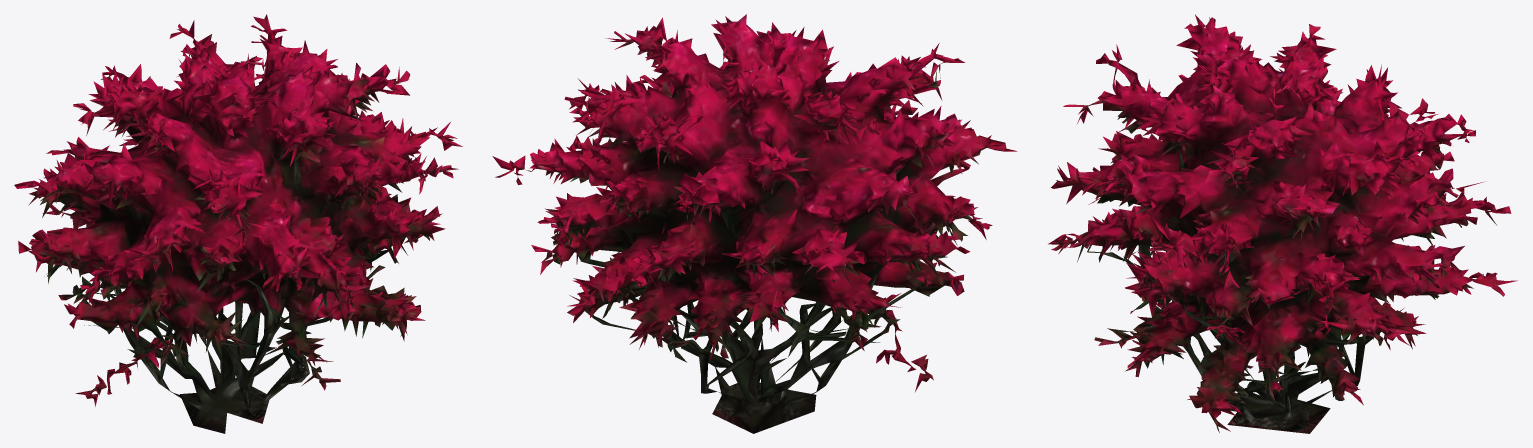
The model's file is CCG_Bougainvillea_web.glb.
3 renders of one model, left to right at view 1: azimuth 30°, elevation 25°; view 2: azimuth 150°, elevation 25°; view 3: azimuth 270°, elevation 25°, orthographic. The views are drawn at different scales.
Visible parts, largest first — view 1: tripo_node_40f63642-ee06-41f8-951d-61a3b2fb097f; view 2: tripo_node_40f63642-ee06-41f8-951d-61a3b2fb097f; view 3: tripo_node_40f63642-ee06-41f8-951d-61a3b2fb097f.
Part boxes in pixels (box(x1,y1,x2,y2)): tripo_node_40f63642-ee06-41f8-951d-61a3b2fb097f: box(14, 14, 462, 433); tripo_node_40f63642-ee06-41f8-951d-61a3b2fb097f: box(492, 14, 1017, 433); tripo_node_40f63642-ee06-41f8-951d-61a3b2fb097f: box(1048, 14, 1517, 433).
Size of the model in its own units: 0.9128 by 0.6978 by 0.8289.
1 material, 1 textured.
